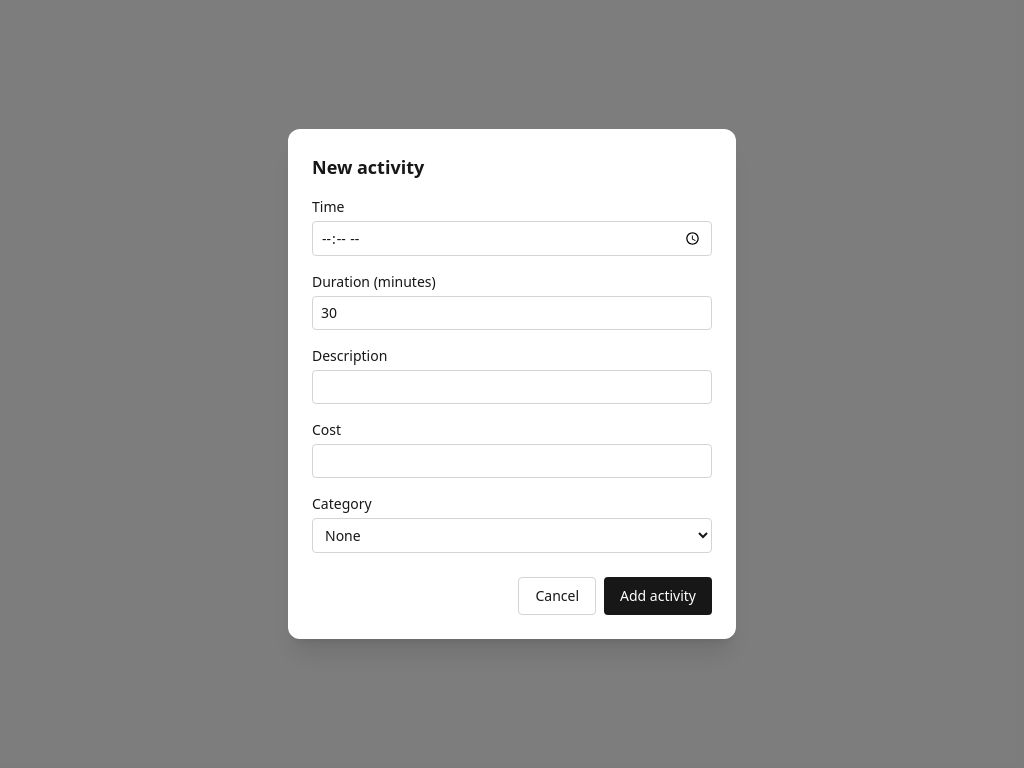
it: ActivityForm › hides count when cost is empty
This screenshot has width=1024, height=768.
Expected: the field labelled "Count" is not shown
In the number field labelled "Cost": (512, 461) [312,444,712,478], type "5"
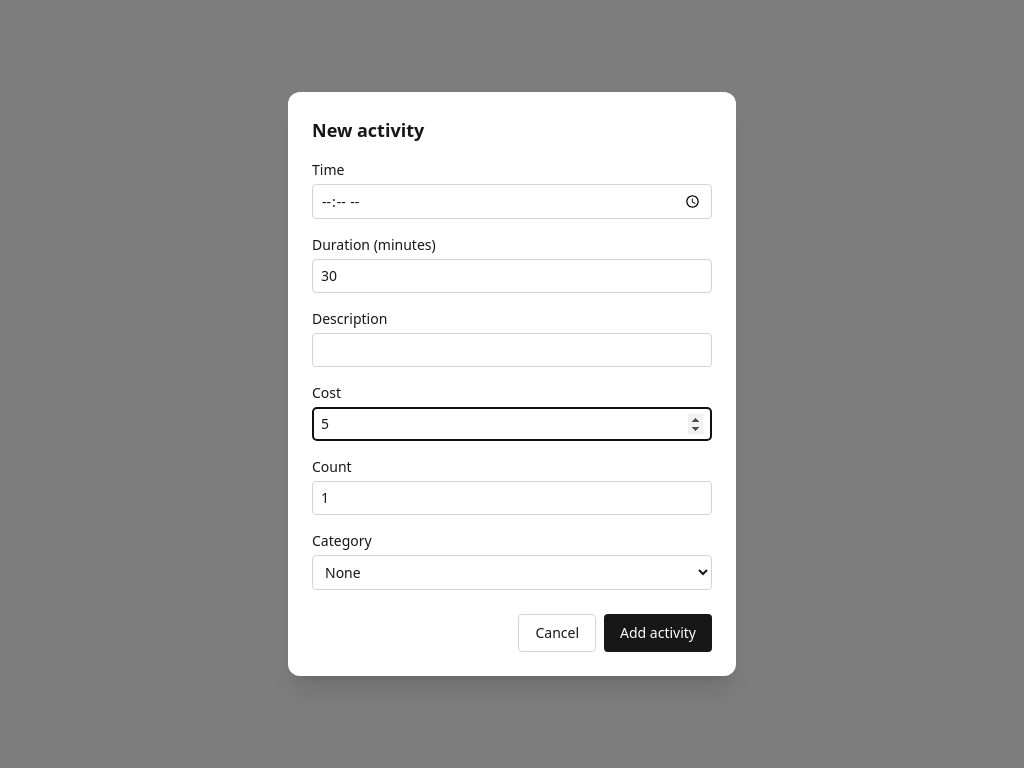
Now the number field labelled "Count" holds "1", box [312,481,712,515]
